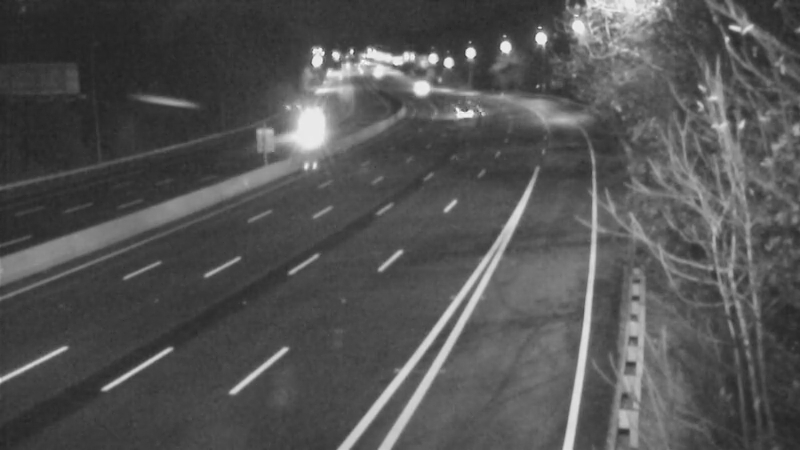vehicle: (389, 61, 439, 111), (430, 84, 480, 134), (284, 108, 334, 158)
